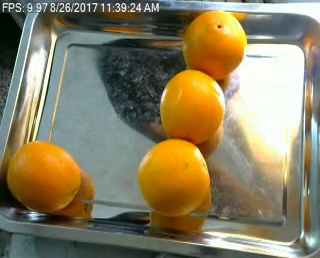Orange: (137, 137, 210, 216), (6, 141, 82, 213), (158, 70, 225, 144), (181, 8, 246, 78)
